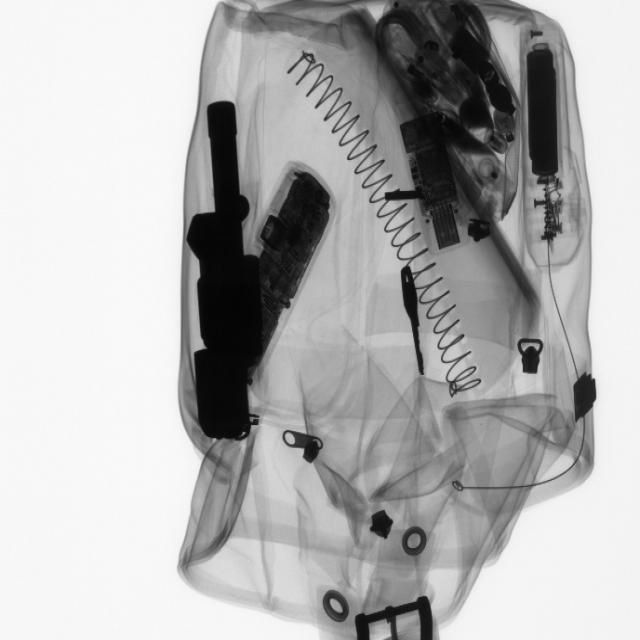GUN: (180, 83, 269, 456)
